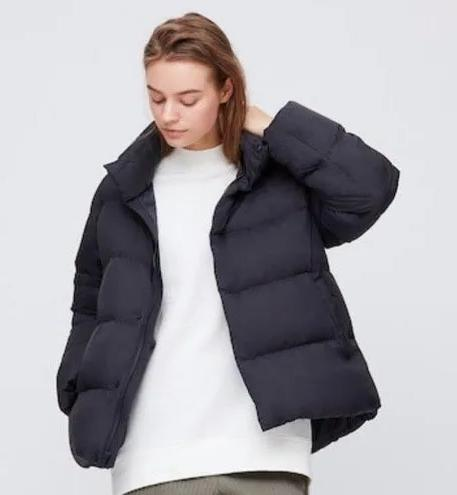coat: (51, 98, 403, 472)
sweater: (109, 142, 315, 495)
